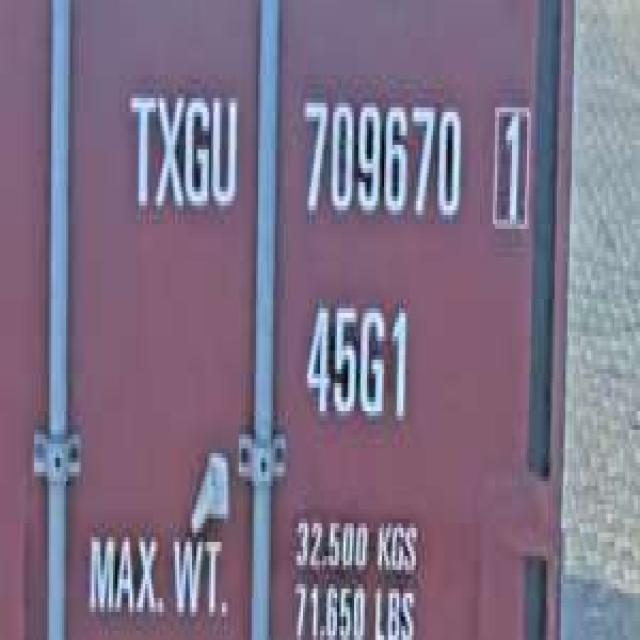dv: (488, 92, 536, 237)
owner: (122, 75, 243, 229)
serial: (294, 84, 468, 238)
size: (297, 285, 416, 439)
